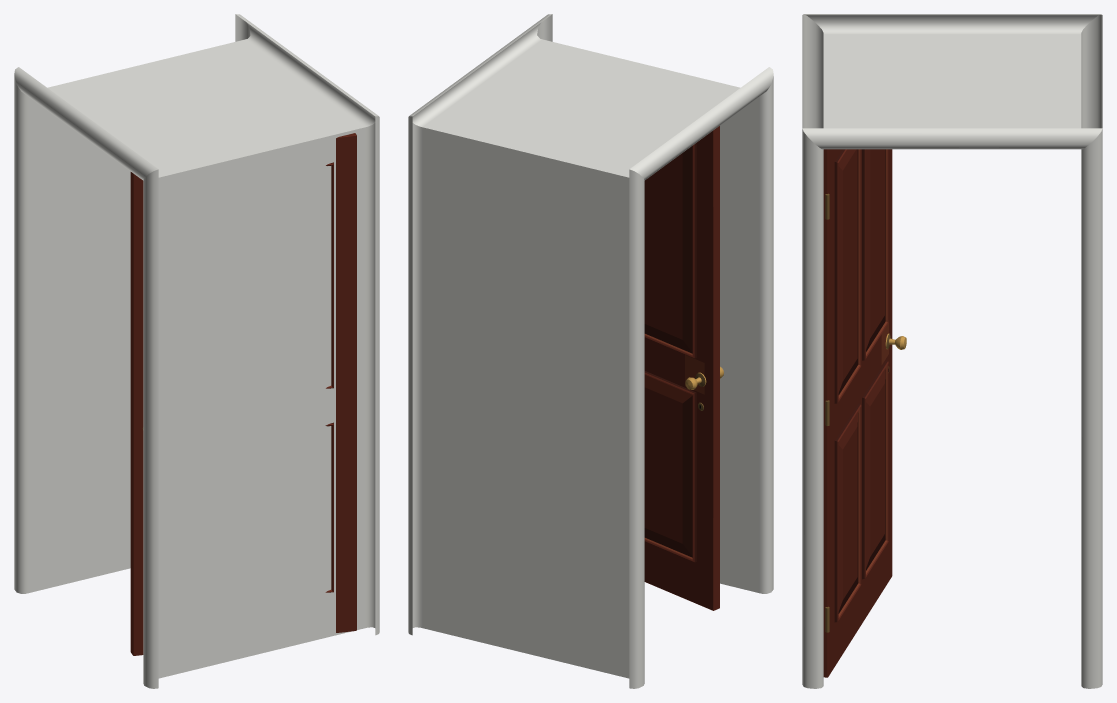
File: door_mahogany_open.glb
3 views of the same model, side by side, from view 1: azimuth 30°, elevation 25°; view 2: azimuth 150°, elevation 25°; view 3: azimuth 270°, elevation 25° (orthographic). The views are drawn at different scales.
Parts seen in each view (by area): view 1: tuer_offen; view 2: tuer_offen; view 3: tuer_offen.
Boxes of the visible parts, x1=… form: tuer_offen: x1=14, y1=14, x2=379, y2=688; tuer_offen: x1=408, y1=14, x2=773, y2=688; tuer_offen: x1=802, y1=14, x2=1102, y2=688.
Size of the model in its own units: 1.08 by 2.29 by 1.12.
